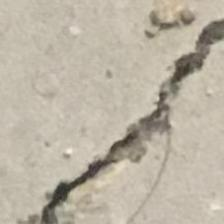Crack: (42, 5, 224, 224)
